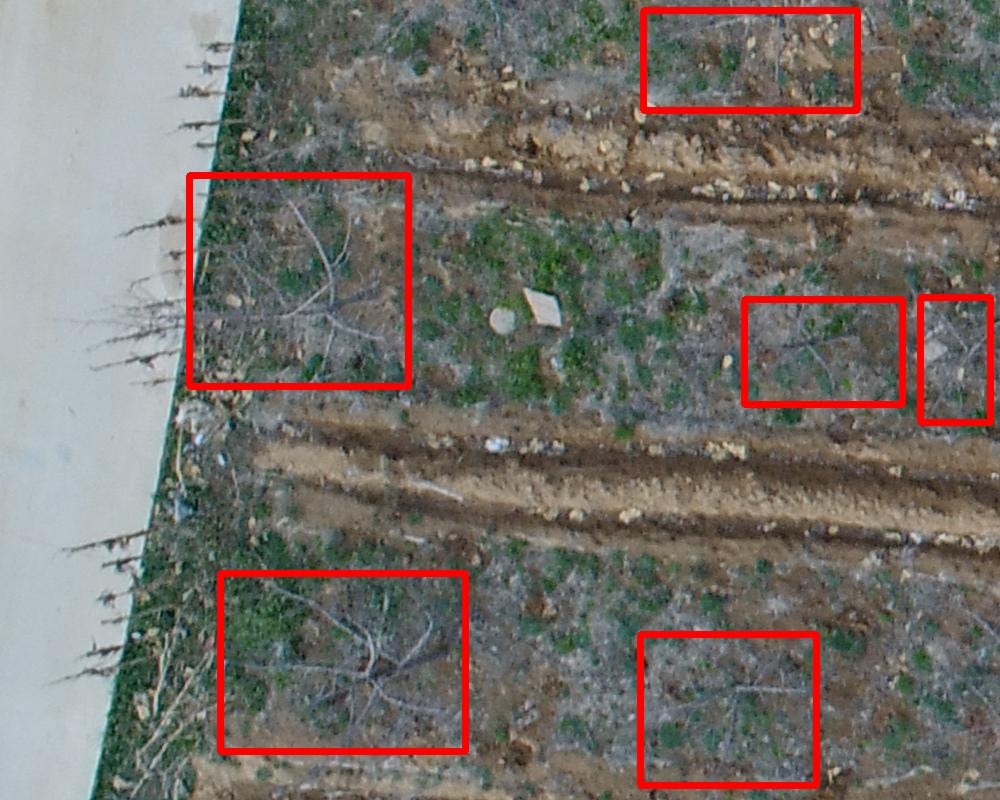apple: (189, 175, 408, 386), (220, 573, 465, 751), (640, 634, 816, 785), (643, 10, 857, 110), (744, 299, 902, 404), (920, 297, 990, 422)
